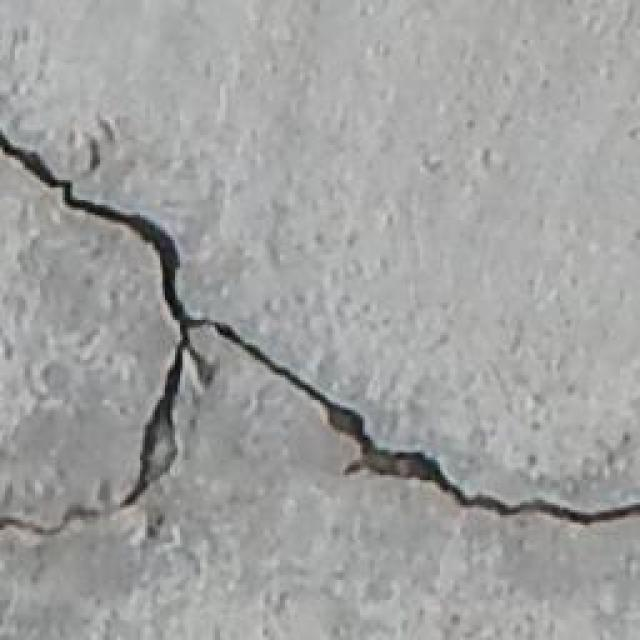concrete-crack: (0, 124, 640, 544)
